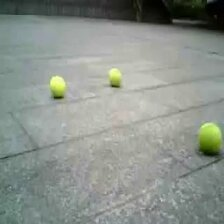tennis: (196, 121, 221, 151), (49, 75, 64, 96), (108, 68, 122, 85)
